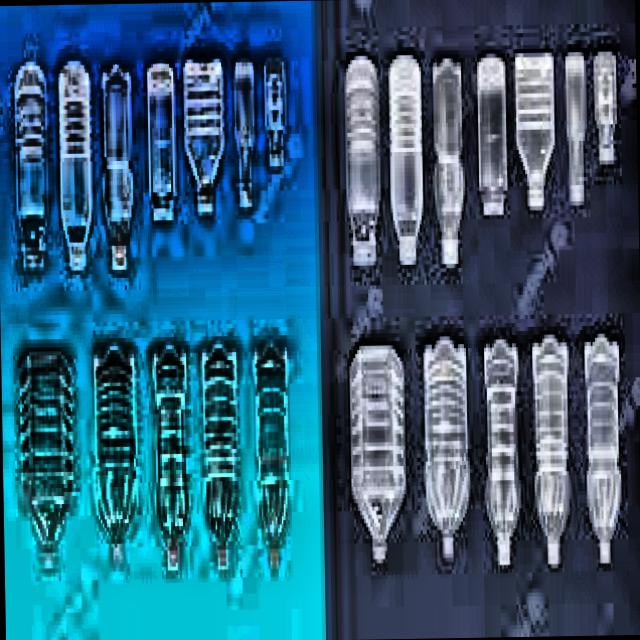plastic bottle: (532, 335, 569, 566), (483, 341, 521, 564), (584, 334, 621, 562), (202, 343, 237, 569), (153, 344, 188, 570), (254, 342, 288, 568), (388, 55, 423, 263), (58, 62, 92, 272), (345, 58, 379, 264), (13, 64, 46, 270), (432, 59, 464, 265), (102, 65, 133, 271), (184, 59, 224, 214), (477, 56, 504, 215), (148, 64, 173, 220), (235, 60, 253, 209), (567, 54, 584, 203), (593, 51, 615, 162), (265, 60, 286, 168)
